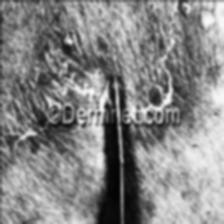Toxin: (147, 0, 184, 101), (47, 37, 102, 97), (0, 110, 46, 150)
